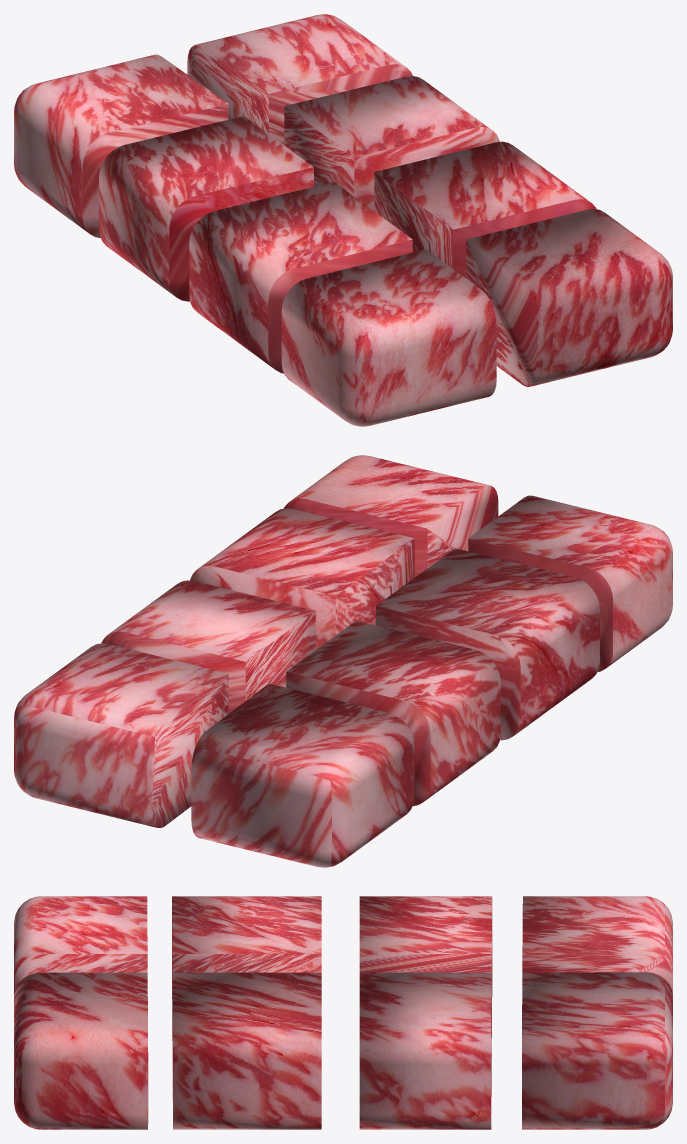
The model's file is MeatCut03.fbx.
3 renders of one model, top to bottom at view 1: azimuth 30°, elevation 25°; view 2: azimuth 150°, elevation 25°; view 3: azimuth 270°, elevation 25°, orthographic. The views are drawn at different scales.
Parts seen in each view (by area): view 1: pCube5.007, pCube5.002, pCube5.001, pCube5, pCube5.003, pCube5.006, pCube5.005, pCube5.004; view 2: pCube5.003, pCube5.004, pCube5.001, pCube5, pCube5.007, pCube5.006, pCube5.005, pCube5.002; view 3: pCube5.006, pCube5.004, pCube5.005, pCube5.002, pCube5.001, pCube5.003, pCube5, pCube5.007.
Boxes of the visible parts, x1,y1,x2,y2 form: pCube5.007: (281,249,496,426); pCube5.002: (466,209,672,386); pCube5.001: (189,182,412,373); pCube5: (99,116,313,301); pCube5.003: (14,54,228,237); pCube5.006: (374,141,596,278); pCube5.005: (284,76,499,210); pCube5.004: (187,14,412,144); pCube5.003: (191,683,414,867); pCube5.004: (14,643,228,827); pCube5.001: (376,548,599,740); pCube5: (286,620,500,805); pCube5.007: (468,495,672,671); pCube5.006: (190,508,414,649); pCube5.005: (101,580,315,713); pCube5.002: (284,455,498,577); pCube5.006: (172,972,321,1129); pCube5.004: (522,972,672,1129); pCube5.005: (359,972,491,1129); pCube5.002: (14,972,148,1129); pCube5.001: (172,896,321,1040); pCube5.003: (522,896,672,995); pCube5: (359,896,492,1037); pCube5.007: (14,896,147,995).
Bounding box in the file's own units: 4.03 × 1.21 × 7.34.
